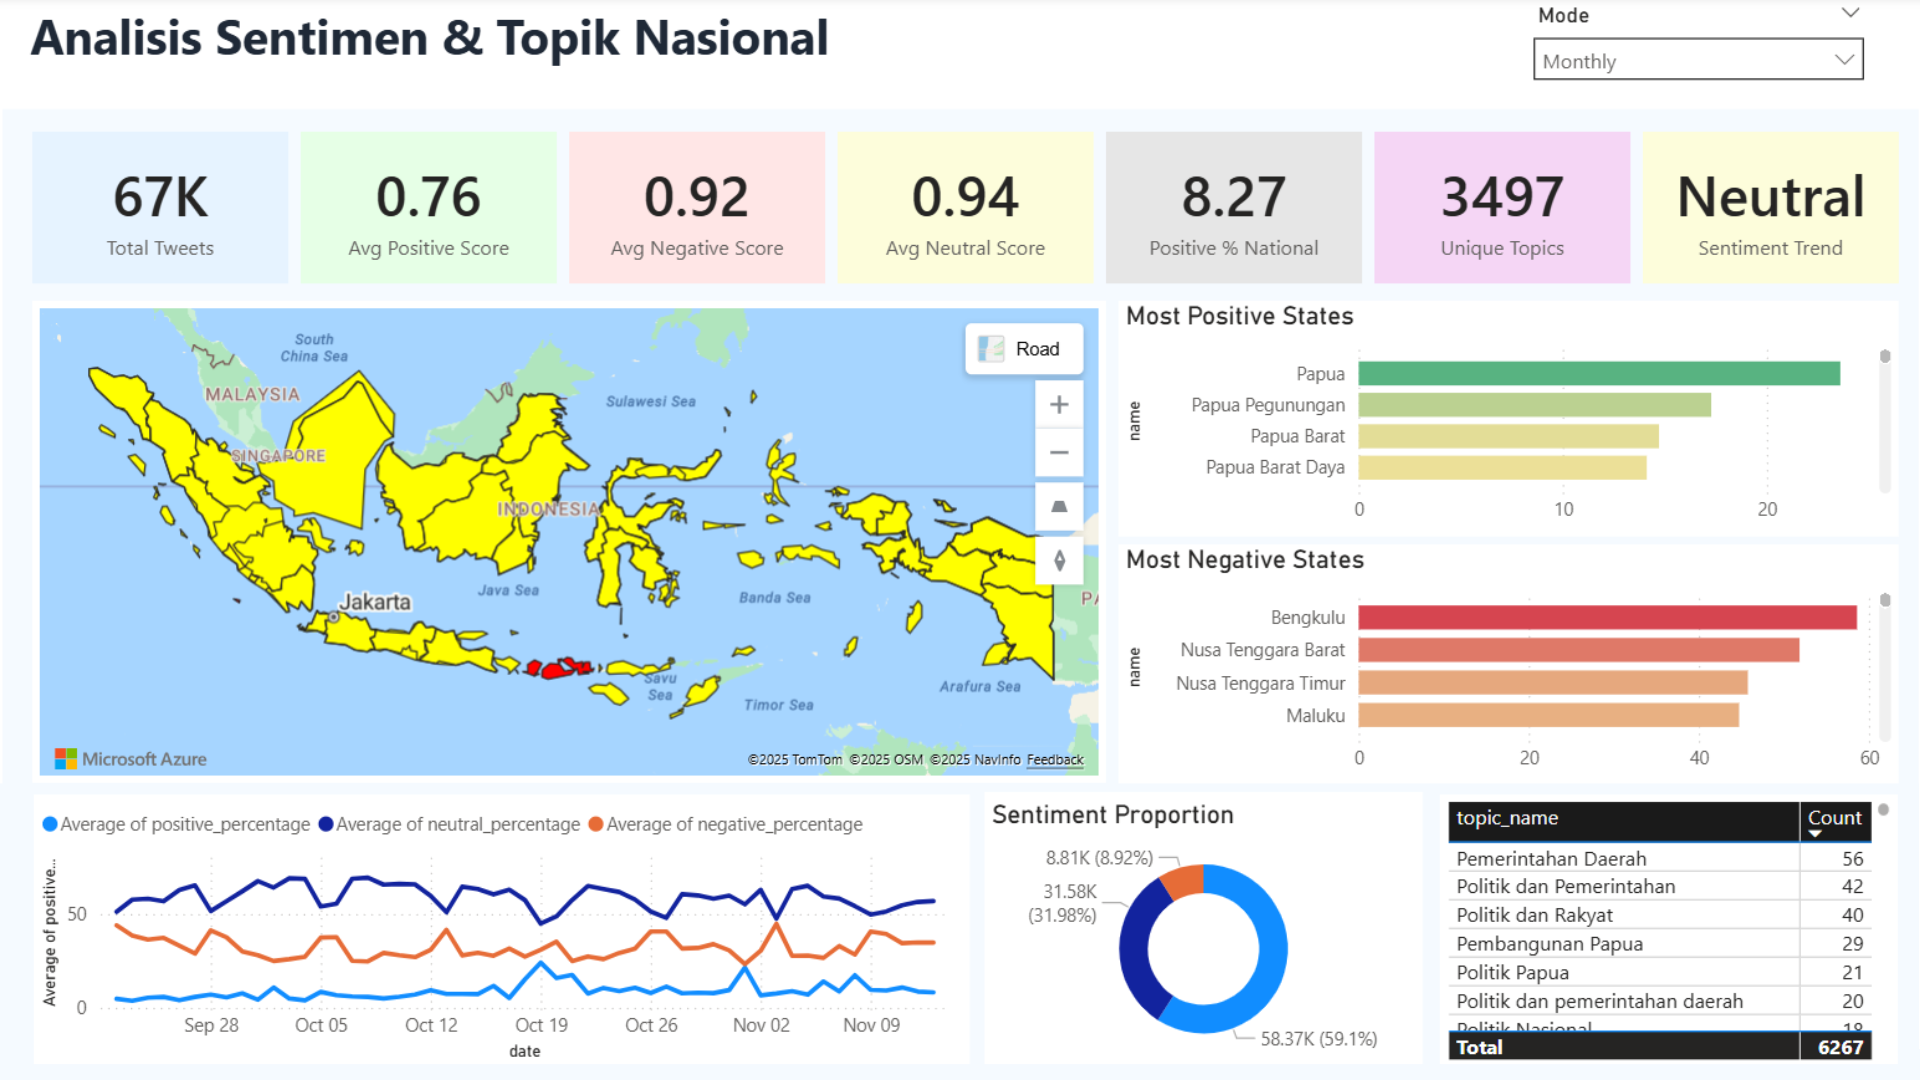

What the dashboard file says about the page in this screenshot:
{"tool":"powerbi","page":{"name":"01 - Overview Nasional","canvas":[1280,720],"ordinal":0},"visuals":[{"type":"textbox","box":[0,0,1280,76],"z":0},{"type":"slicer","fields":{"Values":["Time Mode.Mode"]},"box":[1012,0,240,68],"z":1000},{"type":"azureMap","fields":{"Category":["power_bi states.name"]},"box":[21.5,203.6,715,321.1],"z":2000},{"type":"card","fields":{"Values":["_Key Measures.Total Tweets"]},"box":[21.5,91,170.5,101],"z":3000},{"type":"card","fields":{"Values":["_Key Measures.Avg Positive Score"]},"box":[200.3,91,170.5,101],"z":4000},{"type":"card","fields":{"Values":["_Key Measures.Avg Negative Score"]},"box":[379,91,170.5,101],"z":5000},{"type":"card","fields":{"Values":["_Key Measures.Avg Neutral Score"]},"box":[557.8,91,170.5,101],"z":6000},{"type":"card","fields":{"Values":["_Key Measures.Positive % National"]},"box":[736.6,91,170.5,101],"z":7000},{"type":"card","fields":{"Values":["_Key Measures.Unique Topics"]},"box":[915.3,91,170.5,101],"z":8000},{"type":"card","fields":{"Values":["_Key Measures.Sentiment Trend"]},"box":[1094.1,91,170.5,101],"z":9000},{"type":"lineChart","fields":{"Category":["power_bi daily_sentiments.date"],"Y":["power_bi daily_sentiments.positive_percentage","power_bi daily_sentiments.neutral_percentage","power_bi daily_sentiments.negative_percentage"]},"box":[24.8,539.6,622.3,180.4],"z":10000},{"type":"donutChart","title":"Sentiment Proportion","fields":{"Category":["power_bi tweets.Sentiment Label"],"Y":["power_bi tweets.sentiment_id"]},"box":[657.1,537.9,291.3,182.1],"z":11000},{"type":"clusteredBarChart","title":"Most Positive States","fields":{"Y":["_Key Measures.Pos % (Hari Ini)"],"Category":["power_bi states.name"]},"box":[744.8,203.6,519.7,157.2],"z":12000},{"type":"clusteredBarChart","title":"Most Negative States","fields":{"Y":["_Key Measures.Avg Neg % (Harian)"],"Category":["power_bi states.name"]},"box":[744.8,365.8,519.7,160.6],"z":13000},{"type":"tableEx","fields":{"Values":["power_bi daily_topics_flat.topic_name","power_bi daily_topics_flat.Count Measure"]},"box":[960,539.6,304.6,180.4],"z":14000}]}

Visuals, with their boxes in screenshot pixels (x1, y1, x2, y2), scaled from the page's 1280x720 canvas onto the 1920x1080 screenshot:
textbox: 0, 0, 1919, 114
slicer - Time Mode.Mode: 1518, 0, 1878, 102
azureMap - power_bi states.name: 32, 305, 1105, 787
card - _Key Measures.Total Tweets: 32, 136, 288, 288
card - _Key Measures.Avg Positive Score: 300, 136, 556, 288
card - _Key Measures.Avg Negative Score: 568, 136, 824, 288
card - _Key Measures.Avg Neutral Score: 837, 136, 1092, 288
card - _Key Measures.Positive % National: 1105, 136, 1361, 288
card - _Key Measures.Unique Topics: 1373, 136, 1629, 288
card - _Key Measures.Sentiment Trend: 1641, 136, 1897, 288
lineChart - power_bi daily_sentiments.date x power_bi daily_sentiments.positive_percentage: 37, 809, 971, 1079
"Sentiment Proportion" donutChart: 986, 807, 1423, 1079
"Most Positive States" clusteredBarChart: 1117, 305, 1897, 541
"Most Negative States" clusteredBarChart: 1117, 549, 1897, 790
tableEx - power_bi daily_topics_flat.topic_name x power_bi daily_topics_flat.Count Measure: 1440, 809, 1897, 1079
